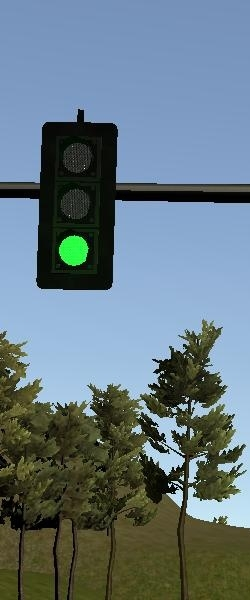Green: (40, 119, 114, 291)
